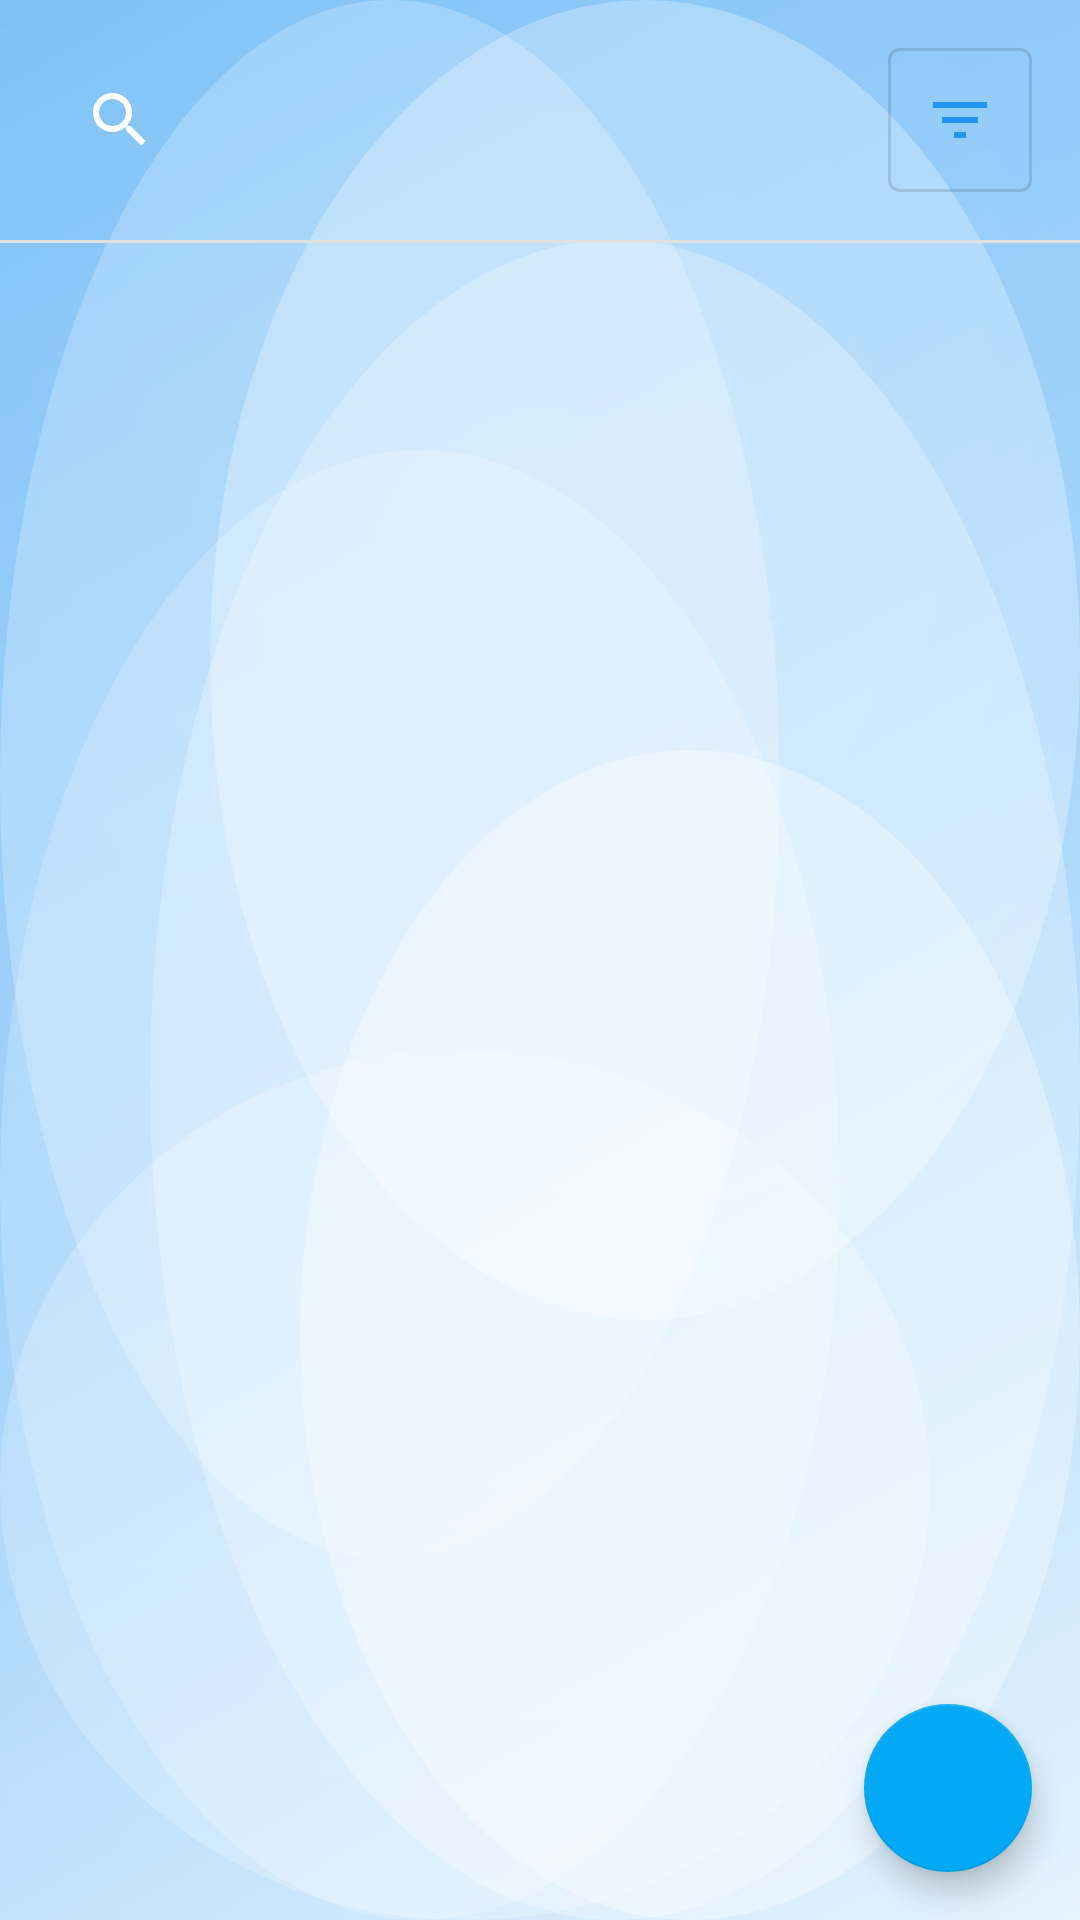

Icon bounding boxes for this 1080x1920 phone screenshot, format bbox=[x1, y1, x2, y2]:
filter: bbox=[888, 48, 1032, 192]
